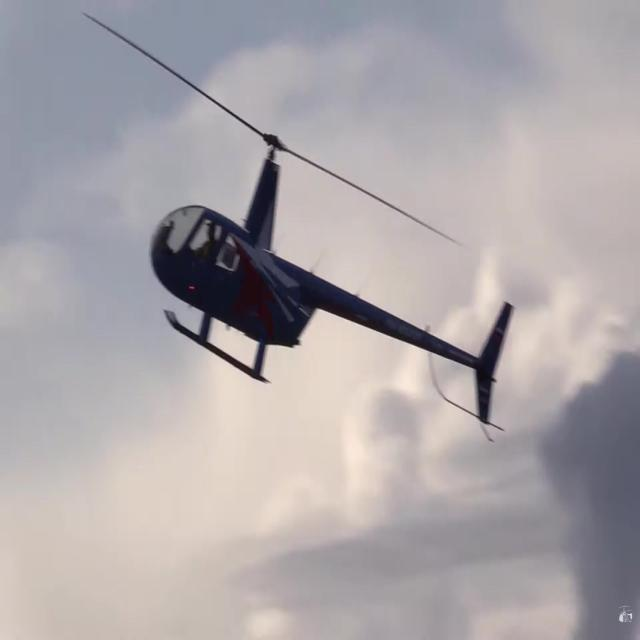CIV_HELO: (147, 131, 517, 428)
